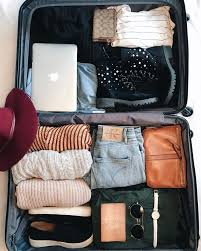suitcase: (5, 1, 199, 251)
